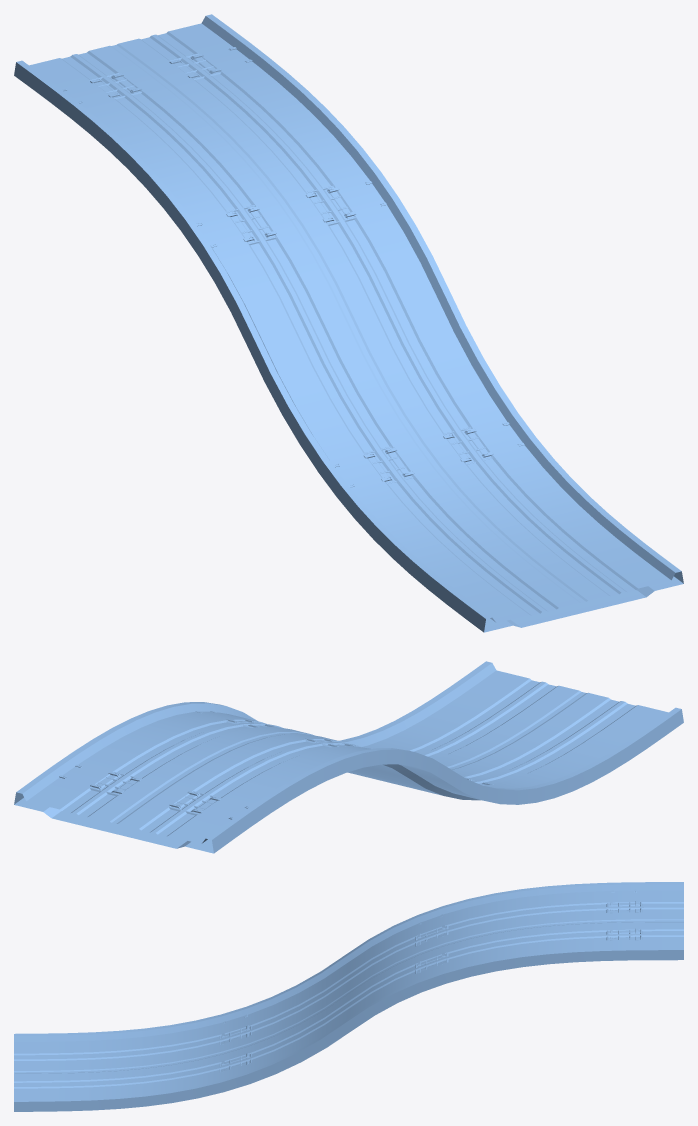
Rendered from Race-Circuit_01.FBX.
The picture shows the model from 3 angles, top to bottom: view 1: azimuth 30°, elevation 25°; view 2: azimuth 150°, elevation 25°; view 3: azimuth 270°, elevation 25°; orthographic projection. The views are drawn at different scales.
Visible parts, largest first — view 1: Race-Circuit_01; view 2: Race-Circuit_01; view 3: Race-Circuit_01.
Part boxes in pixels (box(x1,y1,x2,y2)): Race-Circuit_01: box(14, 14, 683, 632); Race-Circuit_01: box(14, 661, 683, 853); Race-Circuit_01: box(14, 882, 683, 1111).
Bounding box in the file's own units: 961 × 1058 × 3911.
